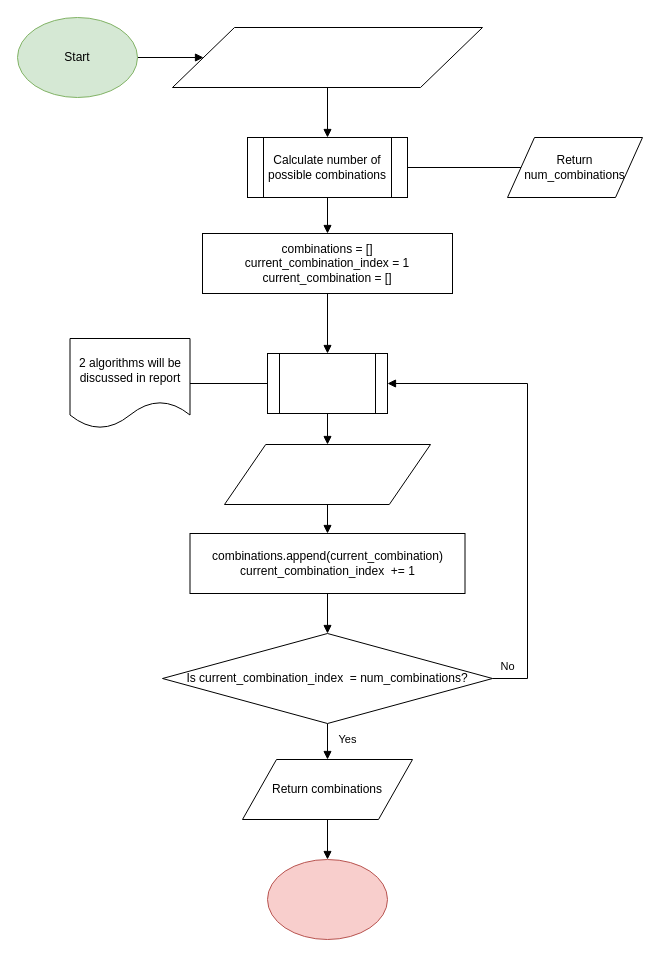
This 660x957 diagram has some shape labels left out. The centre of each missing label's shape, as x and y in pixels:
"End" belongs at [327,899].
"Generate current combination" belongs at [327,383].
"Read input: n: total number of elements k: number of elements of a combination" belongs at [327,57].
"Return current_combination" belongs at [327,474].
